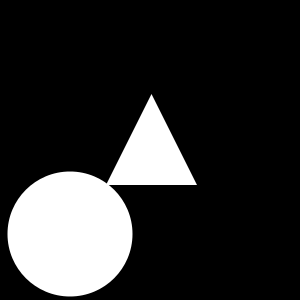rectangle: (7, 172, 132, 296)
triangle: (106, 94, 197, 185)
